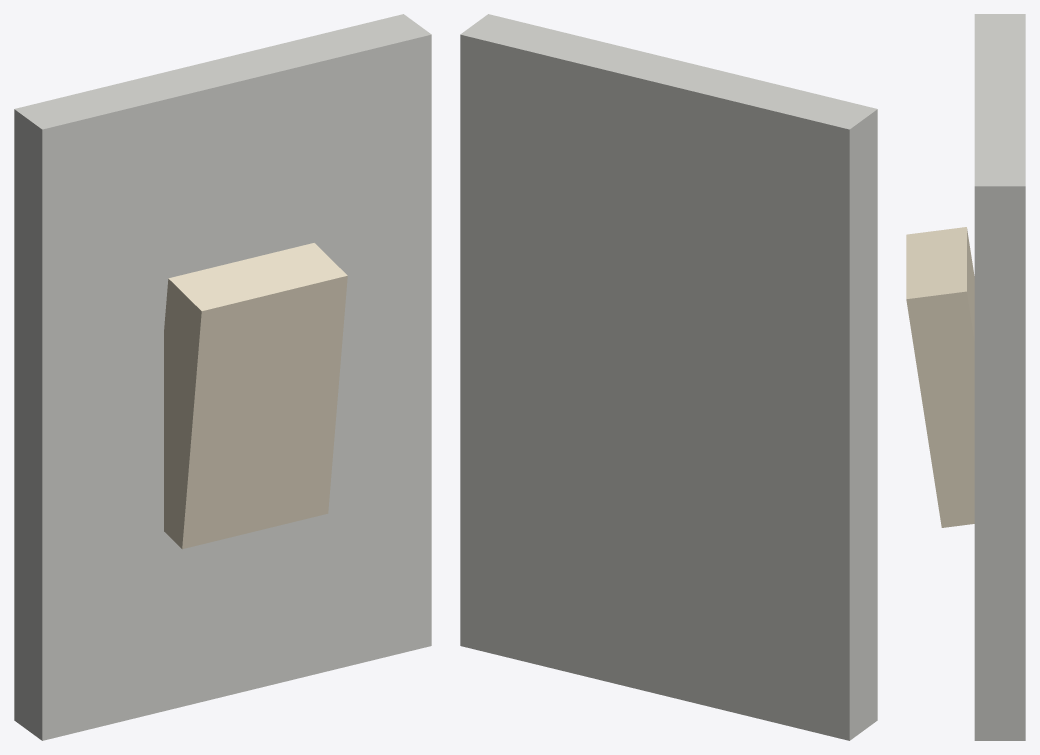
Rendered from light_switch.glb.
3 views of the same model, side by side, from view 1: azimuth 30°, elevation 25°; view 2: azimuth 150°, elevation 25°; view 3: azimuth 270°, elevation 25° (orthographic). The views are drawn at different scales.
Parts seen in each view (by area): view 1: Part0, Part1; view 2: Part0; view 3: Part0, Part1.
Boxes of the visible parts, bbox=[...] form: Part0: bbox=[14, 14, 431, 740]; Part1: bbox=[164, 243, 347, 549]; Part0: bbox=[460, 14, 877, 740]; Part0: bbox=[974, 14, 1025, 740]; Part1: bbox=[906, 227, 974, 527].
Size of the model in its own units: 0.08 by 0.12 by 0.0234.
